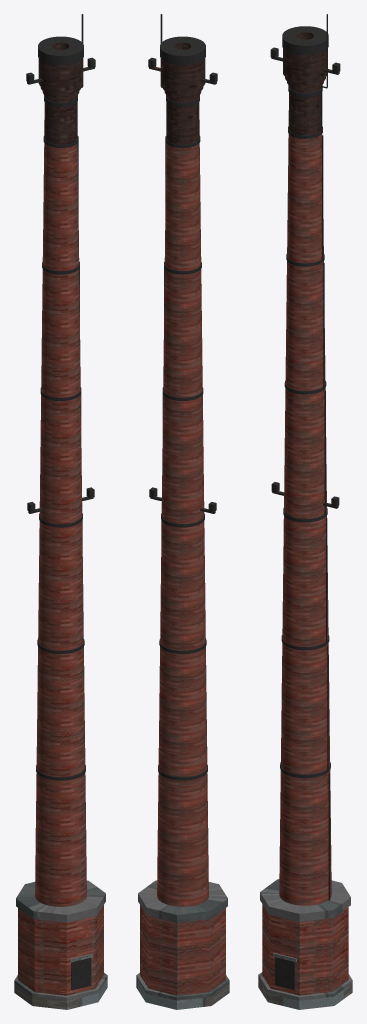
The model's file is industrial_chimney.glb.
3 views of the same model, side by side, from view 1: azimuth 30°, elevation 25°; view 2: azimuth 150°, elevation 25°; view 3: azimuth 330°, elevation 25° (orthographic).
Visible parts, largest first — view 1: main; view 2: main; view 3: main.
Boxes of the visible parts, x1,y1,x2,y2 form: main: (14,14,107,1009); main: (136,14,229,1009); main: (258,14,352,1009).
Bounding box in the file's own units: 2.5 × 30.85 × 2.5.
Materials: 1 (1 with a texture image).
